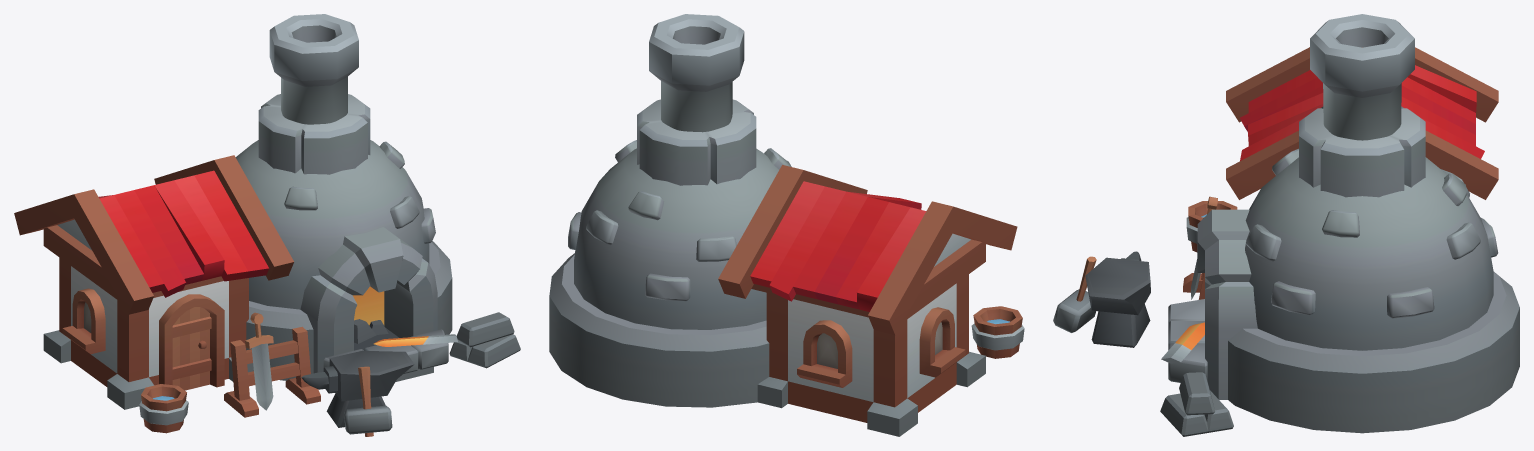
The model's file is k-blacksmith-kaykit.glb.
3 views of the same model, side by side, from view 1: azimuth 30°, elevation 25°; view 2: azimuth 150°, elevation 25°; view 3: azimuth 270°, elevation 25° (orthographic). The views are drawn at different scales.
Visible parts, largest first — view 1: building_blacksmith_red; view 2: building_blacksmith_red; view 3: building_blacksmith_red.
Part boxes in pixels (x1,y1,x2,y2): building_blacksmith_red: (14, 14, 520, 436); building_blacksmith_red: (549, 14, 1024, 436); building_blacksmith_red: (1053, 14, 1519, 436).
Bounding box in the file's own units: 1.29 × 0.9852 × 1.25.
1 material, 1 textured.
